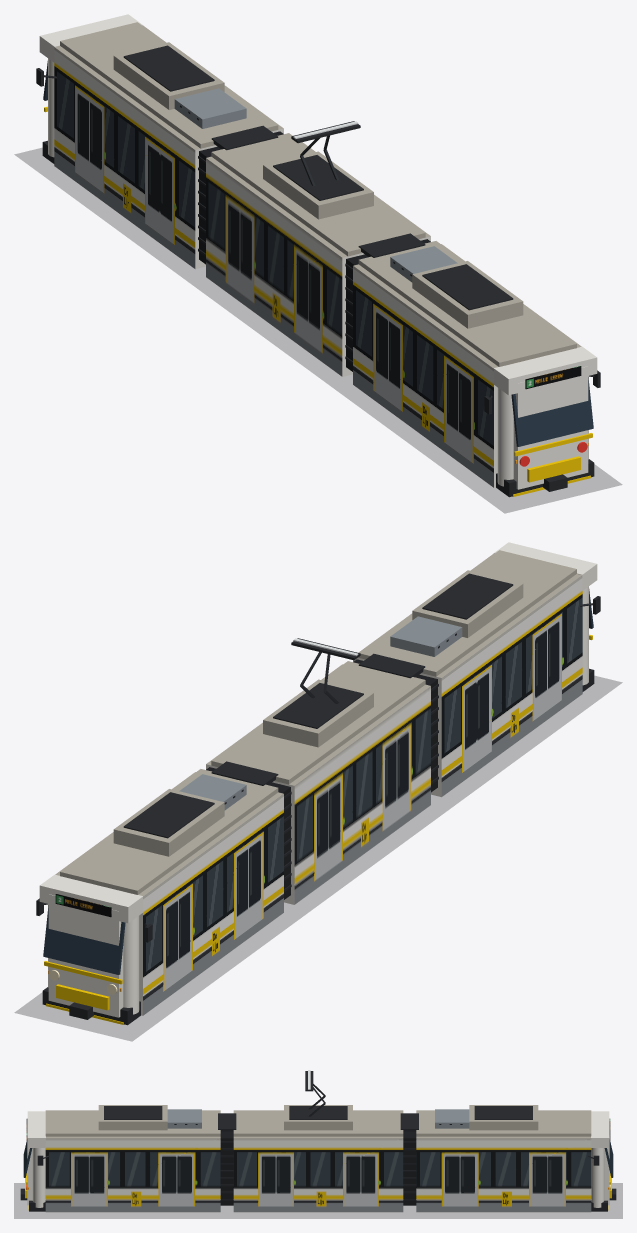
Rendered from tram.obj.
3 renders of one model, top to bottom at view 1: azimuth 30°, elevation 25°; view 2: azimuth 150°, elevation 25°; view 3: azimuth 270°, elevation 25°, orthographic. The views are drawn at different scales.
Parts seen in each view (by area): view 1: part1, part65, part32, shadowpad.nocast, part33, part66, part2, part105, part67, part34, part109.nocast, part111 (+13 smaller); view 2: part65, part1, part32, shadowpad.nocast, part33, part2, part66, part85, part3, part34, part89.nocast, part91 (+13 smaller); view 3: part1, part65, part32, shadowpad.nocast, part33, part2, part66, part3, part67, part34, part21, part54 (+13 smaller).
Boxes of the visible parts, box(x1,y1,x2,y2) form: part1: box(54, 25, 283, 269); part65: box(353, 244, 581, 487); part32: box(206, 142, 430, 376); shadowpad.nocast: box(14, 148, 621, 513); part33: box(211, 133, 425, 256); part66: box(358, 241, 576, 366); part2: box(60, 22, 278, 148); part105: box(513, 366, 588, 489); part67: box(412, 261, 523, 328); part34: box(263, 151, 373, 219); part109.nocast: box(511, 377, 593, 446); part111: box(493, 346, 597, 395); part65: box(353, 553, 582, 797); part1: box(55, 772, 283, 1015); part32: box(206, 664, 430, 904); shadowpad.nocast: box(15, 676, 622, 1041); part33: box(211, 661, 425, 784); part2: box(60, 769, 278, 894); part66: box(358, 550, 576, 676); part85: box(48, 894, 123, 1017); part3: box(113, 789, 224, 856); part34: box(263, 679, 373, 747); part89.nocast: box(43, 905, 125, 974); part91: box(39, 874, 142, 923); part1: box(416, 1136, 591, 1212); part65: box(45, 1136, 220, 1212); part32: box(233, 1136, 403, 1212); shadowpad.nocast: box(14, 1183, 622, 1218); part33: box(233, 1110, 403, 1136); part2: box(416, 1110, 591, 1136); part66: box(45, 1110, 220, 1136); part3: box(469, 1105, 538, 1130); part67: box(98, 1105, 167, 1130); part34: box(284, 1105, 352, 1130); part21: box(403, 1131, 416, 1205); part54: box(220, 1131, 233, 1205).
Bounding box in the file's own units: 3.2 × 5.09 × 23.
